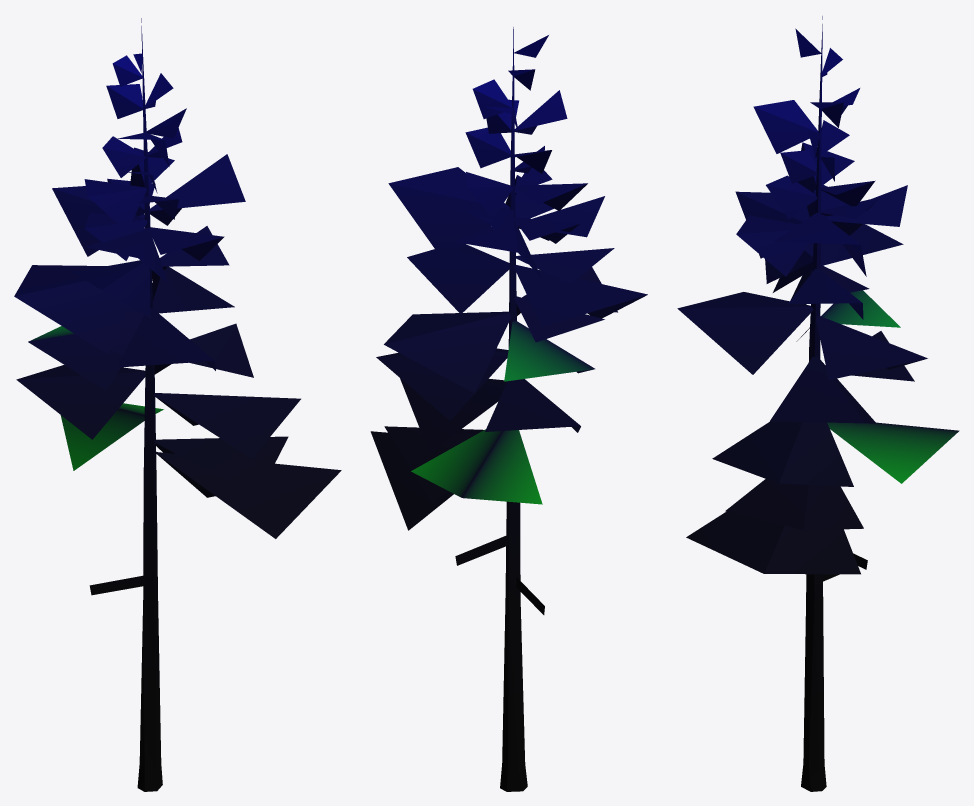
The model's file is Spruce splitted.fbx.
The picture shows the model from 3 angles, left to right: view 1: azimuth 30°, elevation 25°; view 2: azimuth 150°, elevation 25°; view 3: azimuth 270°, elevation 25°; orthographic projection.
Visible parts, largest first — view 1: Leaves 1, Leaves 3, Leaves 4, Leaves 6, Trunk, Leaves 7, Leaves 2, Leaves 5; view 2: Leaves 4, Leaves 1, Leaves 3, Leaves 7, Trunk, Leaves 6, Leaves 5, Leaves 2; view 3: Leaves 4, Leaves 6, Leaves 1, Leaves 3, Leaves 7, Trunk, Leaves 2, Leaves 5.
Boxes of the visible parts, x1,y1,x2,y2 form: Leaves 1: [16, 365, 341, 538]; Leaves 3: [14, 53, 169, 354]; Leaves 4: [145, 73, 300, 458]; Leaves 6: [52, 136, 224, 370]; Trunk: [137, 18, 162, 791]; Leaves 7: [106, 55, 253, 377]; Leaves 2: [89, 436, 288, 595]; Leaves 5: [28, 307, 144, 390]; Leaves 4: [384, 79, 511, 452]; Leaves 1: [370, 379, 580, 530]; Leaves 3: [466, 35, 647, 327]; Leaves 7: [376, 69, 535, 420]; Trunk: [500, 27, 527, 791]; Leaves 6: [454, 150, 617, 315]; Leaves 5: [504, 296, 604, 381]; Leaves 2: [384, 426, 544, 614]; Leaves 4: [712, 102, 927, 486]; Leaves 6: [677, 120, 907, 374]; Leaves 1: [686, 331, 959, 574]; Leaves 3: [735, 28, 903, 292]; Leaves 7: [770, 48, 876, 423]; Trunk: [801, 16, 826, 791]; Leaves 2: [725, 479, 867, 581]; Leaves 5: [791, 266, 900, 341].
Bounding box in the file's own units: 763 × 1863 × 620.
